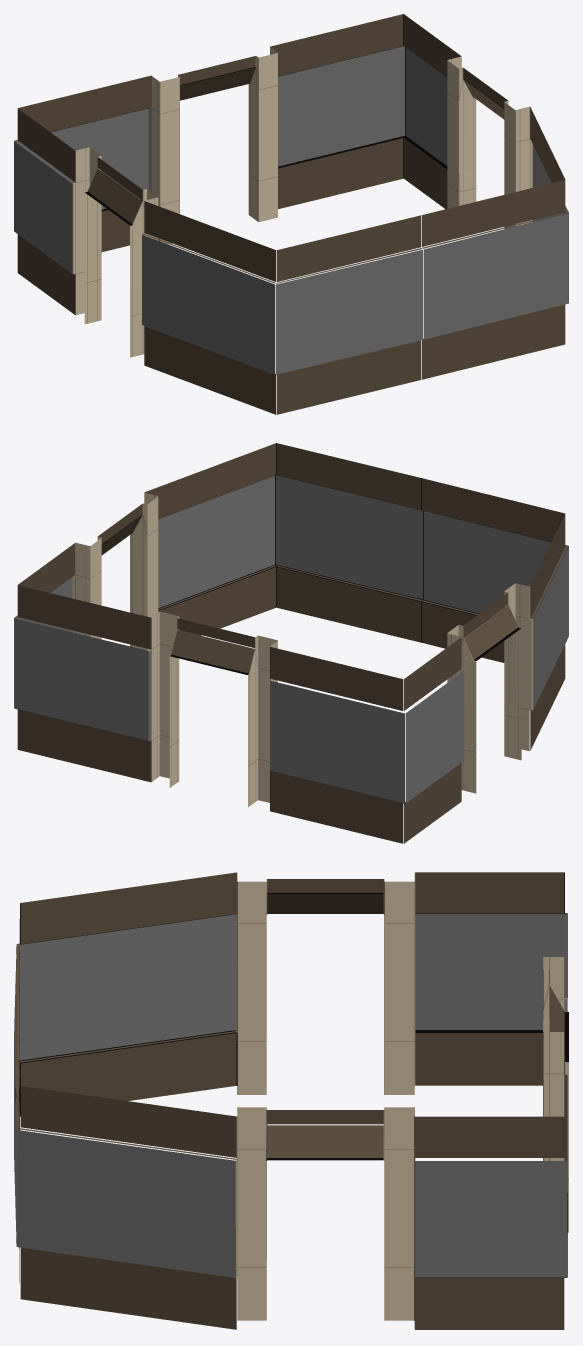
File: AST_titleRoom.fbx
3 views of the same model, one above another, from view 1: azimuth 30°, elevation 25°; view 2: azimuth 150°, elevation 25°; view 3: azimuth 270°, elevation 25° (orthographic). The views are drawn at different scales.
Visible parts, largest first — view 1: MSH_titleRoom; view 2: MSH_titleRoom; view 3: MSH_titleRoom.
Part boxes in pixels (x1,y1,x2,y2): MSH_titleRoom: (14,14,568,414); MSH_titleRoom: (14,443,568,843); MSH_titleRoom: (14,872,568,1329).
Size of the model in its own units: 764 by 307 by 724.
